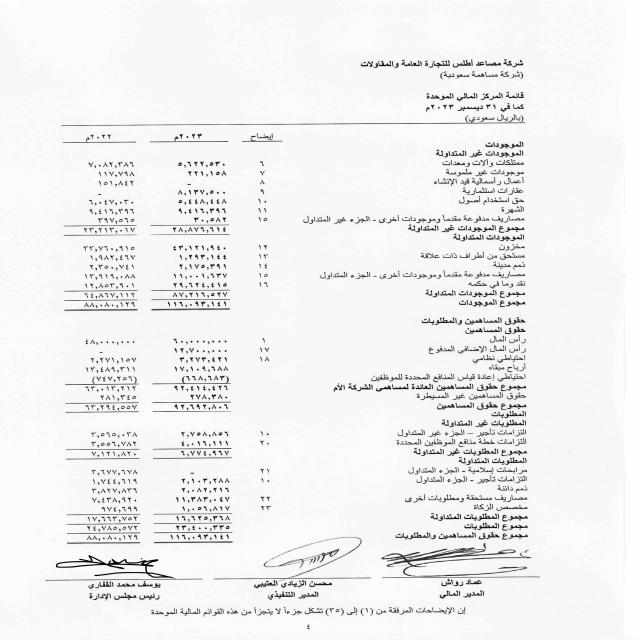financial_sheets: (418, 85, 536, 102)
table: (34, 128, 285, 553)
